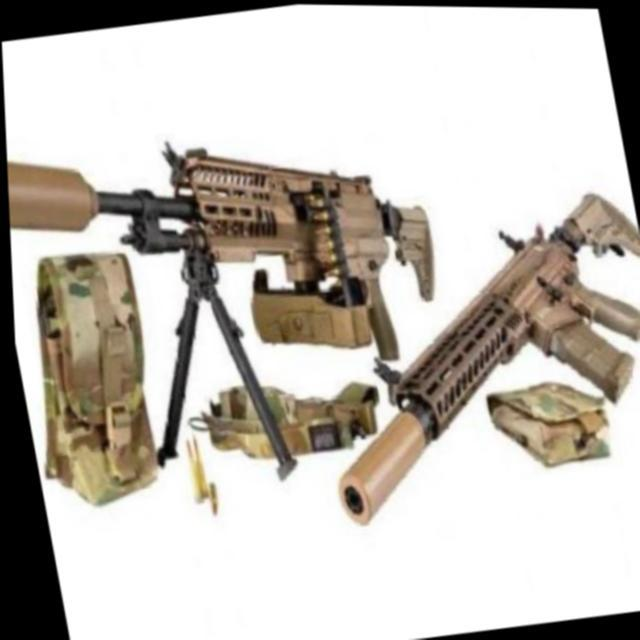weapon: (4, 93, 468, 512), (283, 178, 640, 530)
